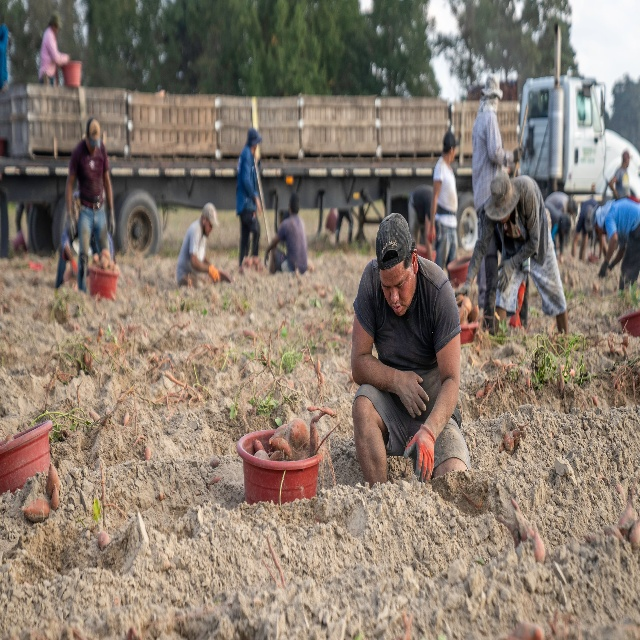Guantes: (402, 426, 436, 482), (495, 257, 516, 291), (454, 277, 471, 297), (107, 209, 116, 239), (67, 214, 76, 240), (209, 264, 219, 282), (427, 222, 435, 244), (514, 146, 524, 162), (598, 260, 607, 277)
Sin_guantes: (398, 369, 429, 419), (254, 196, 263, 214)
